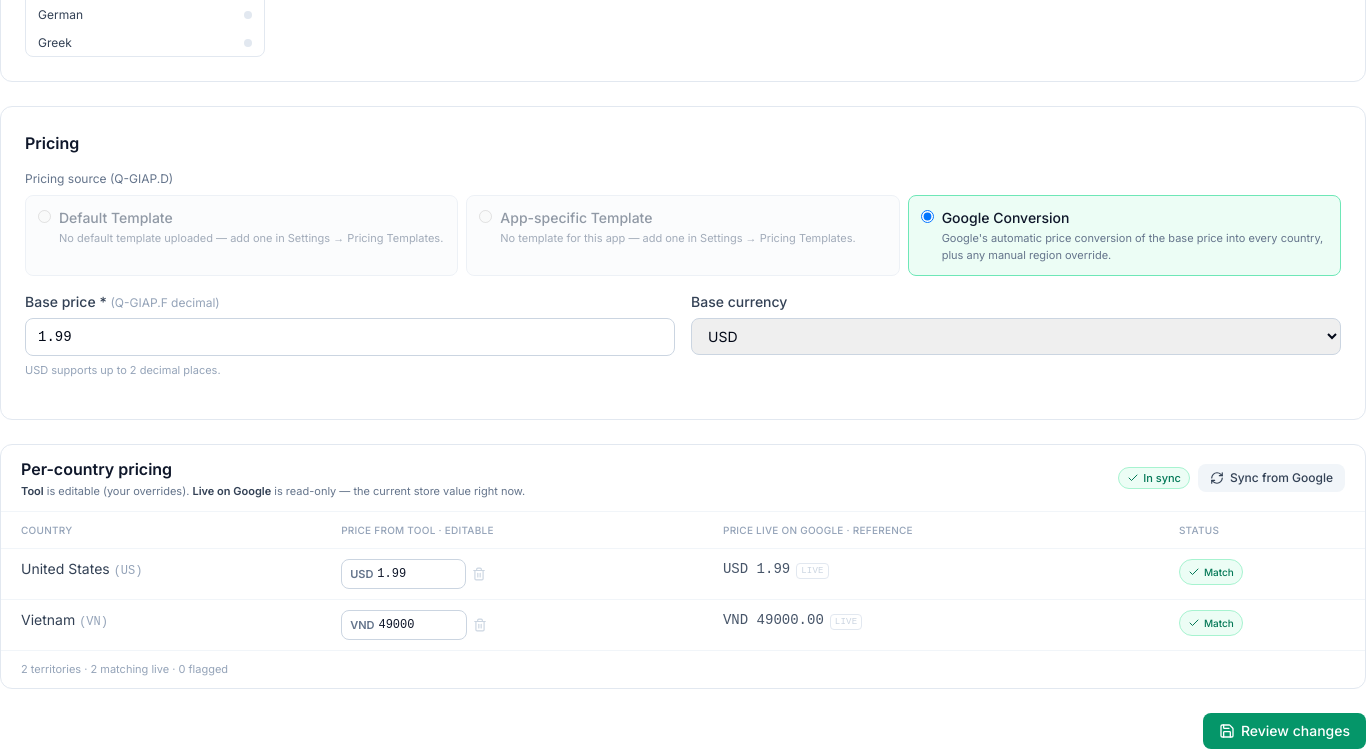
it: SC2b — recalculation warns BEFORE it overwrites hand-typed work › Cancel leaves every price exactly as it was
The image size is (1366, 749).
(page scrolled)
Check: the heading "Per-country pricing" is shown, box 21,458 -> 172,478
Clear the field named "Tool price for VN" at (418, 625), box 378,617 -> 458,633
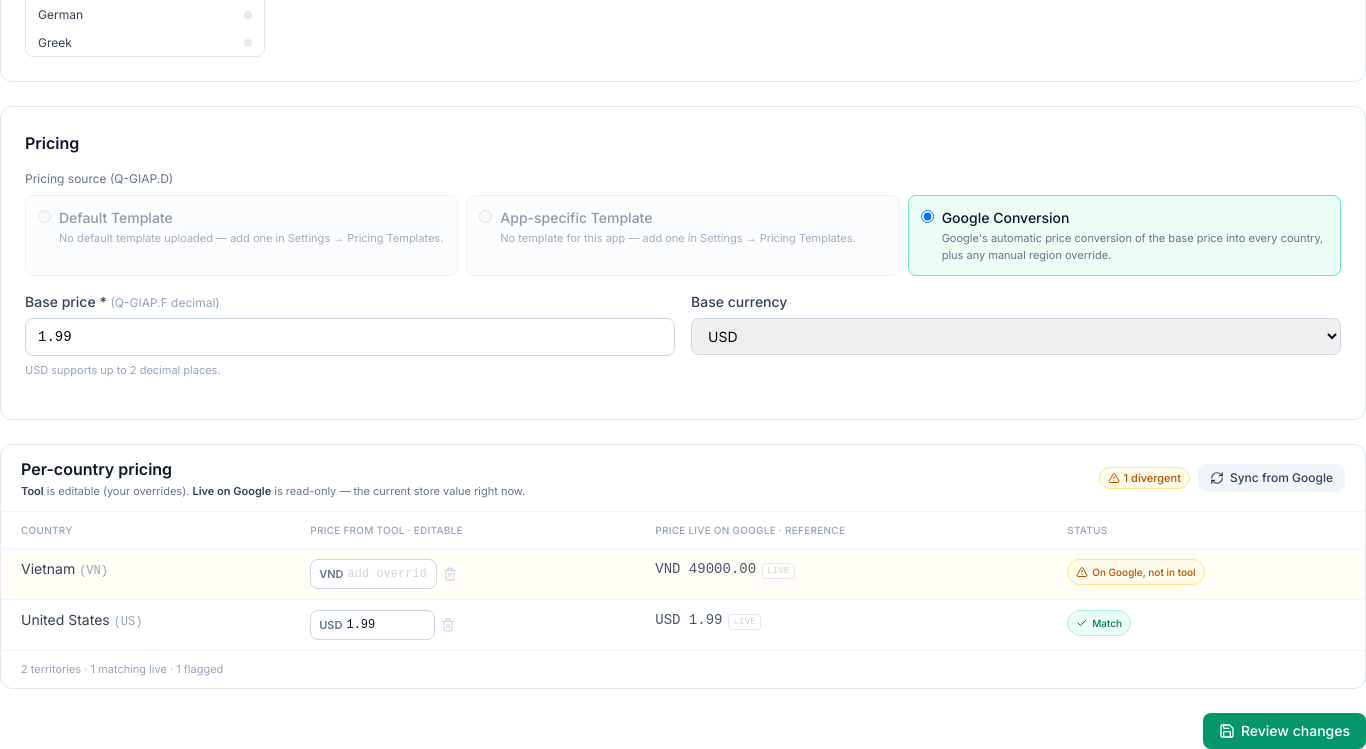
Type "12345" into the field with placeholder "add override" at (388, 574), box 348,566 -> 428,582
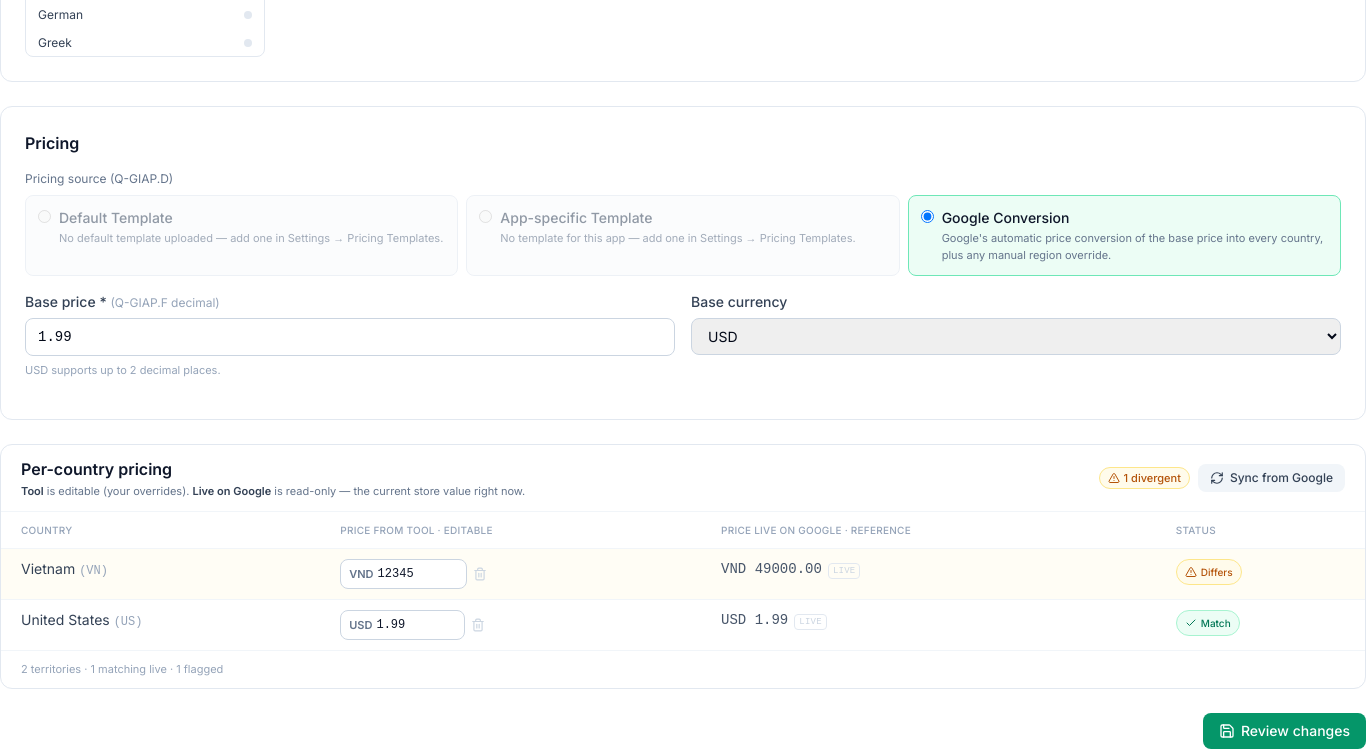
Type "2.99" into the field with placeholder "1.99" at (350, 337), box 25,318 -> 675,356
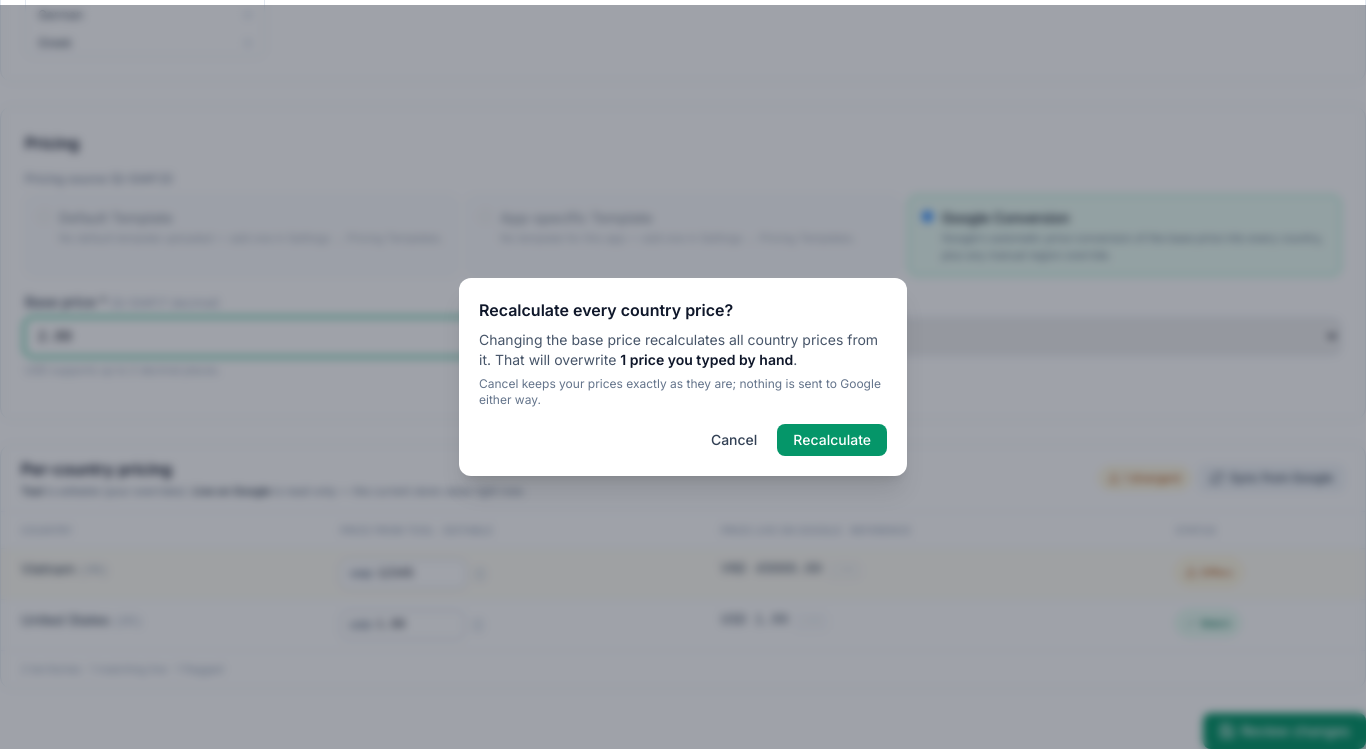
Check: the heading "Recalculate every country price?" is shown, box 479,300 -> 733,320
Click the button "Cancel" at (734, 440), box 699,424 -> 769,456
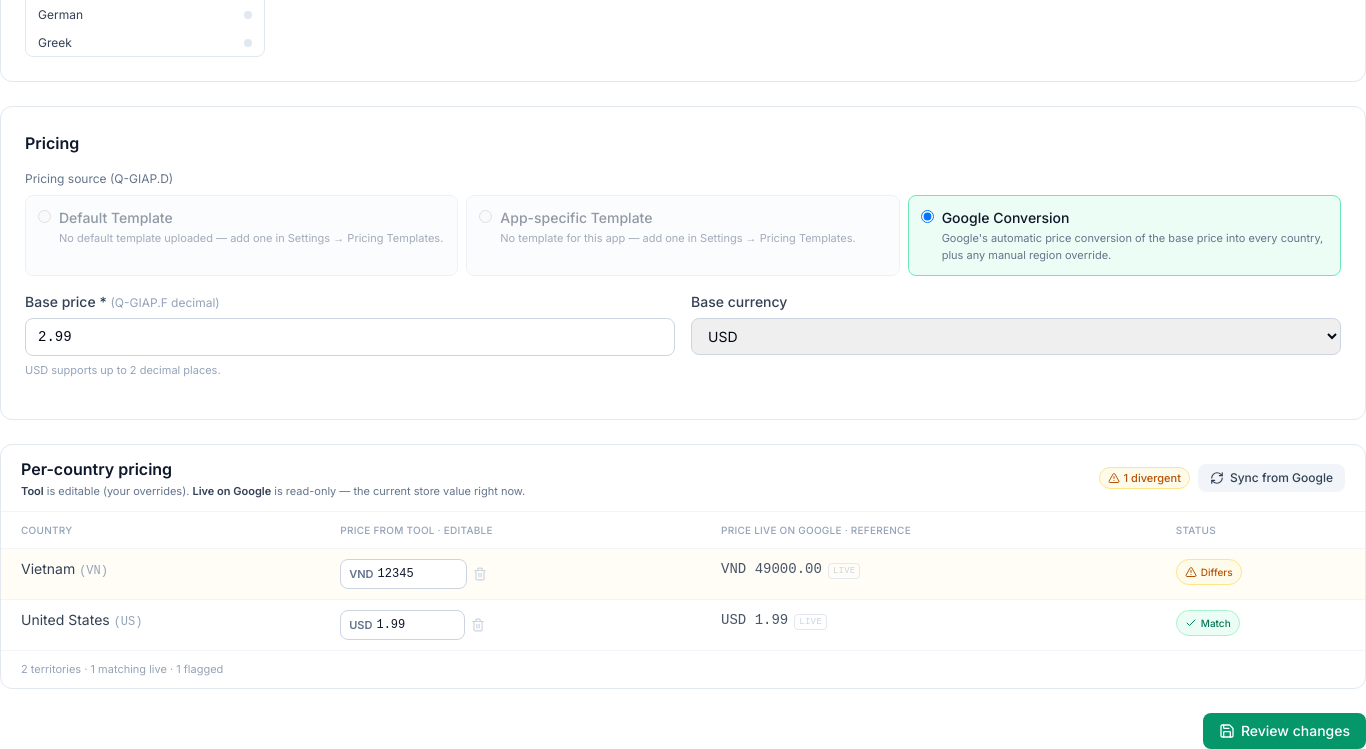
Check: the heading "Recalculate every country price?" is gone
